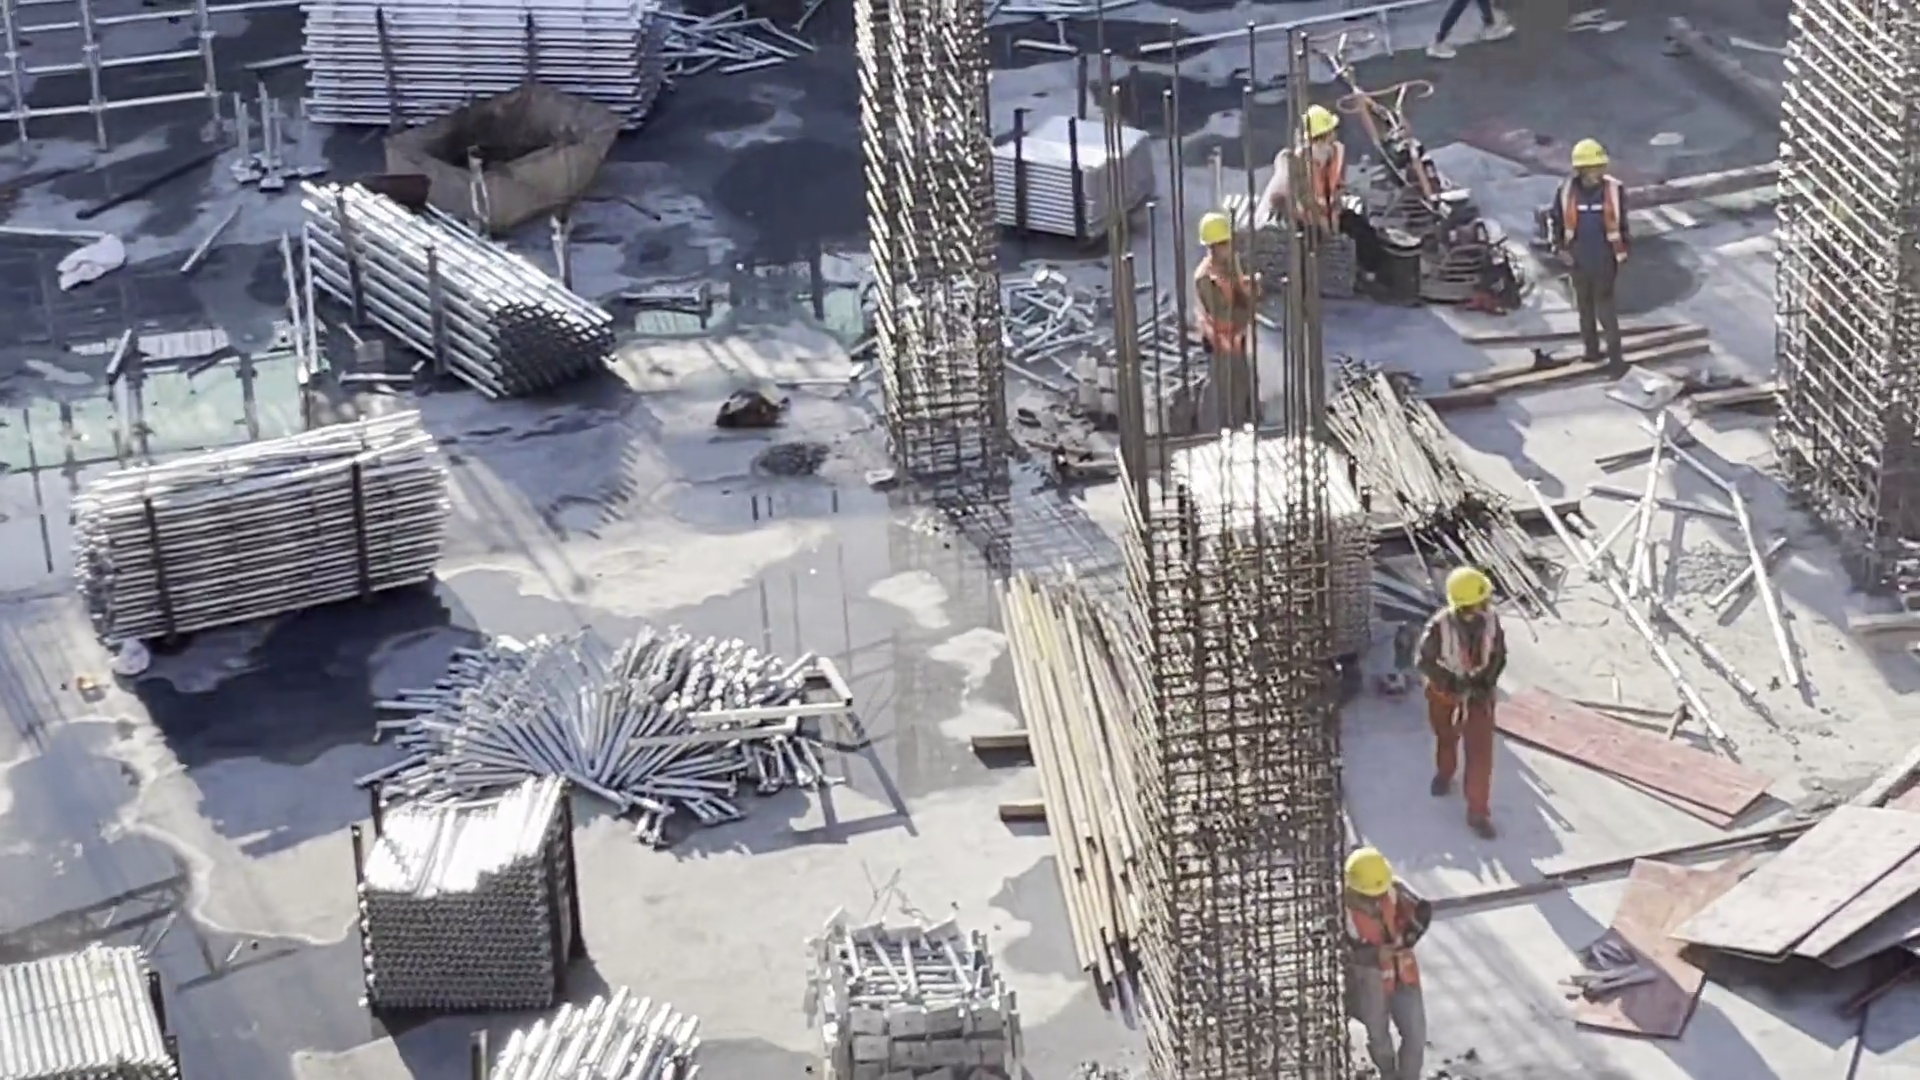board: (1688, 808, 1920, 984)
helmet: (1348, 845, 1401, 894), (1444, 565, 1497, 608), (1301, 102, 1341, 146), (1571, 134, 1617, 171), (1199, 212, 1238, 246)
hopper: (384, 83, 629, 234)
person: (1414, 568, 1526, 839), (1328, 843, 1447, 1078), (1545, 145, 1637, 386), (1196, 216, 1274, 454), (1270, 100, 1352, 265)
scaffold: (405, 614, 819, 816), (77, 423, 457, 605), (291, 161, 585, 393), (309, 1, 673, 152), (354, 779, 591, 994), (1172, 454, 1380, 671), (801, 912, 1048, 1079), (3, 897, 190, 1080), (457, 978, 713, 1080), (992, 265, 1152, 424), (991, 109, 1166, 242)
vest: (1346, 892, 1429, 984), (1429, 608, 1494, 701), (1198, 256, 1252, 367), (1566, 173, 1622, 272), (1293, 145, 1347, 232)
